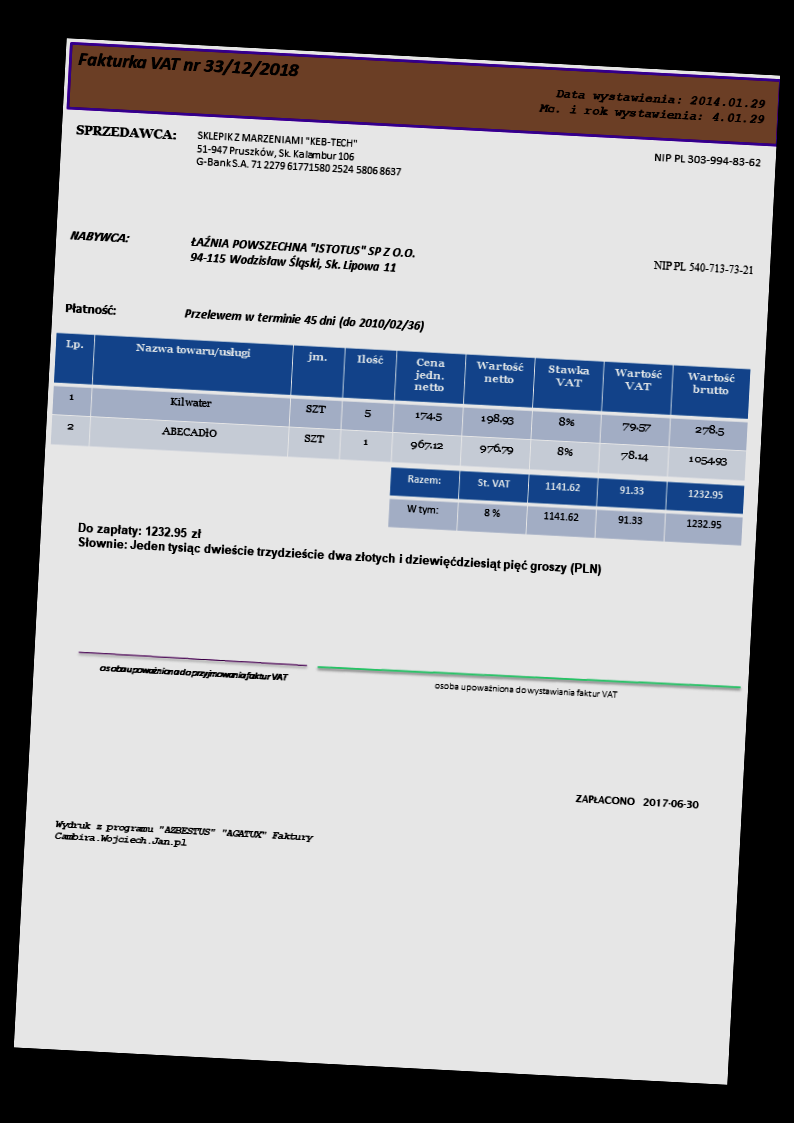Table: (48, 329, 752, 480), (385, 465, 745, 548)
TextBox: (74, 519, 605, 580), (193, 126, 405, 181), (52, 815, 317, 857), (535, 83, 767, 129), (186, 233, 419, 277), (74, 46, 302, 82), (182, 306, 426, 334), (96, 660, 289, 685), (431, 678, 621, 702), (573, 790, 702, 813), (72, 120, 177, 144), (651, 148, 764, 170), (649, 256, 757, 278), (67, 227, 130, 247), (61, 299, 119, 318)
